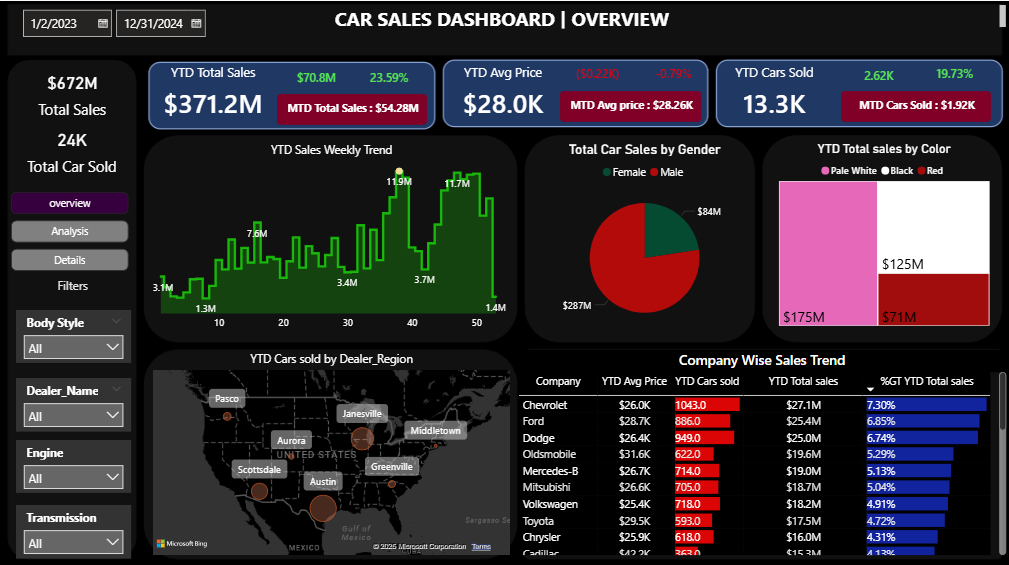

The page's visual inventory and layout, read from the dashboard file:
{"tool":"powerbi","page":{"name":"overview","canvas":[1280,720],"ordinal":0},"visuals":[{"type":"card","title":"YTD Total Sales","fields":{"Values":["car_data.YTD Total sales"]},"box":[189,79.2,162.6,77.8],"z":0},{"type":"card","fields":{"Values":["car_data.Sales Difference"]},"box":[353.1,79.2,94.5,38.9],"z":1000},{"type":"card","fields":{"Values":["car_data.YOY Sales Growth"]},"box":[447.6,79.2,91.7,38.9],"z":2000},{"type":"card","fields":{"Values":["car_data.MTD KPI"]},"box":[351.7,118.1,190.4,38.9],"z":3000},{"type":"card","title":"YTD Avg Price","fields":{"Values":["car_data.YTD Avg Price"]},"box":[565.7,79.2,144.6,77.8],"z":4000},{"type":"card","fields":{"Values":["car_data.Avg Price Diff"]},"box":[711.7,79.2,93.1,29.2],"z":5000},{"type":"card","fields":{"Values":["car_data.YOY Avg Price Growth"]},"box":[817.3,79.2,72.3,29.2],"z":6000},{"type":"card","fields":{"Values":["car_data.MDT Avg Price KPI"]},"box":[710.3,114,179.3,38.9],"z":7000},{"type":"card","title":"YTD Cars Sold","fields":{"Values":["car_data.YTD Cars sold"]},"box":[911.8,79.2,140.4,77.8],"z":8000},{"type":"card","fields":{"Values":["car_data.Cars Sold Diff"]},"box":[1067.5,79.2,93.1,33.4],"z":9000},{"type":"card","fields":{"Values":["car_data.YOY Cars Sold Growth"]},"box":[1163.4,79.2,93.1,29.2],"z":10000},{"type":"card","fields":{"Values":["car_data.MTD Cars Sold KPI"]},"box":[1066.1,114,190.4,38.9],"z":11000},{"type":"areaChart","title":"YTD Sales Weekly Trend","fields":{"Category":["Calender table.Week"],"Y":["Sum(car_data.Price ($))","car_data.Max Point"]},"box":[189,177.9,462.9,248.8],"z":12000},{"type":"treemap","fields":{"Group":["car_data.Color"],"Values":["car_data.YTD Total sales"]},"box":[982.7,177.9,276.6,239.1],"z":13000},{"type":"map","fields":{"Category":["car_data.Dealer_Region"],"Size":["car_data.YTD Cars sold"]},"box":[188.9,442.4,462.7,264.9],"z":14000},{"type":"tableEx","title":"Company Wise Sales Trend","fields":{"Values":["car_data.Company","car_data.YTD Avg Price","car_data.YTD Cars sold","car_data.YTD Total sales1","car_data.YTD Total sales"]},"box":[651.5,442.4,628.7,264.9],"z":15000},{"type":"textbox","box":[0,0,1280.2,40.3],"z":16000},{"type":"slicer","fields":{"Values":["car_data.Body Style"]},"box":[20.3,391.7,145.8,67.2],"z":17000},{"type":"slicer","fields":{"Values":["car_data.Dealer_Name"]},"box":[20.3,477.9,145.8,68.5],"z":18000},{"type":"slicer","fields":{"Values":["car_data.Engine"]},"box":[20.3,556.5,145.8,67.2],"z":19000},{"type":"slicer","fields":{"Values":["car_data.Transmission"]},"box":[20.3,638.9,145.8,68.5],"z":20000},{"type":"textbox","box":[20.3,344.8,143.2,31.7],"z":21000},{"type":"pieChart","title":"Total Car Sales by Gender","fields":{"Y":["car_data.YTD Total sales"],"Category":["car_data.Gender"]},"box":[678.3,177.9,278,248.8],"z":22000},{"type":"pageNavigator","box":[13.4,241.9,149.5,102.5],"z":23000},{"type":"slicer","fields":{"Values":["Calender table.Date"]},"box":[16.7,1.4,298.8,58.4],"z":24000},{"type":"card","fields":{"Values":["car_data.Total Sales"]},"box":[16.7,79.2,150.1,72.3],"z":25000},{"type":"card","fields":{"Values":["CountNonNull(car_data.Car_id)"]},"box":[16.8,151.2,149.5,75.6],"z":26000}]}

Visuals, with their boxes in screenshot pixels (x1, y1, x2, y2), scaled from the page's 1280x720 canvas onto the 1009x565 screenshot:
"YTD Total Sales" card: <bbox>149, 62, 277, 123</bbox>
card - car_data.Sales Difference: <bbox>278, 62, 353, 93</bbox>
card - car_data.YOY Sales Growth: <bbox>353, 62, 425, 93</bbox>
card - car_data.MTD KPI: <bbox>277, 93, 427, 123</bbox>
"YTD Avg Price" card: <bbox>446, 62, 560, 123</bbox>
card - car_data.Avg Price Diff: <bbox>561, 62, 634, 85</bbox>
card - car_data.YOY Avg Price Growth: <bbox>644, 62, 701, 85</bbox>
card - car_data.MDT Avg Price KPI: <bbox>560, 89, 701, 120</bbox>
"YTD Cars Sold" card: <bbox>719, 62, 829, 123</bbox>
card - car_data.Cars Sold Diff: <bbox>841, 62, 915, 88</bbox>
card - car_data.YOY Cars Sold Growth: <bbox>917, 62, 990, 85</bbox>
card - car_data.MTD Cars Sold KPI: <bbox>840, 89, 990, 120</bbox>
"YTD Sales Weekly Trend" areaChart: <bbox>149, 140, 514, 335</bbox>
treemap - car_data.Color x car_data.YTD Total sales: <bbox>775, 140, 993, 327</bbox>
map - car_data.Dealer_Region x car_data.YTD Cars sold: <bbox>149, 347, 514, 555</bbox>
"Company Wise Sales Trend" tableEx: <bbox>514, 347, 1008, 555</bbox>
textbox: <bbox>0, 0, 1008, 32</bbox>
slicer - car_data.Body Style: <bbox>16, 307, 131, 360</bbox>
slicer - car_data.Dealer_Name: <bbox>16, 375, 131, 429</bbox>
slicer - car_data.Engine: <bbox>16, 437, 131, 489</bbox>
slicer - car_data.Transmission: <bbox>16, 501, 131, 555</bbox>
textbox: <bbox>16, 271, 129, 295</bbox>
"Total Car Sales by Gender" pieChart: <bbox>535, 140, 754, 335</bbox>
pageNavigator: <bbox>11, 190, 128, 270</bbox>
slicer - Calender table.Date: <bbox>13, 1, 249, 47</bbox>
card - car_data.Total Sales: <bbox>13, 62, 131, 119</bbox>
card - CountNonNull(car_data.Car_id): <bbox>13, 119, 131, 178</bbox>
